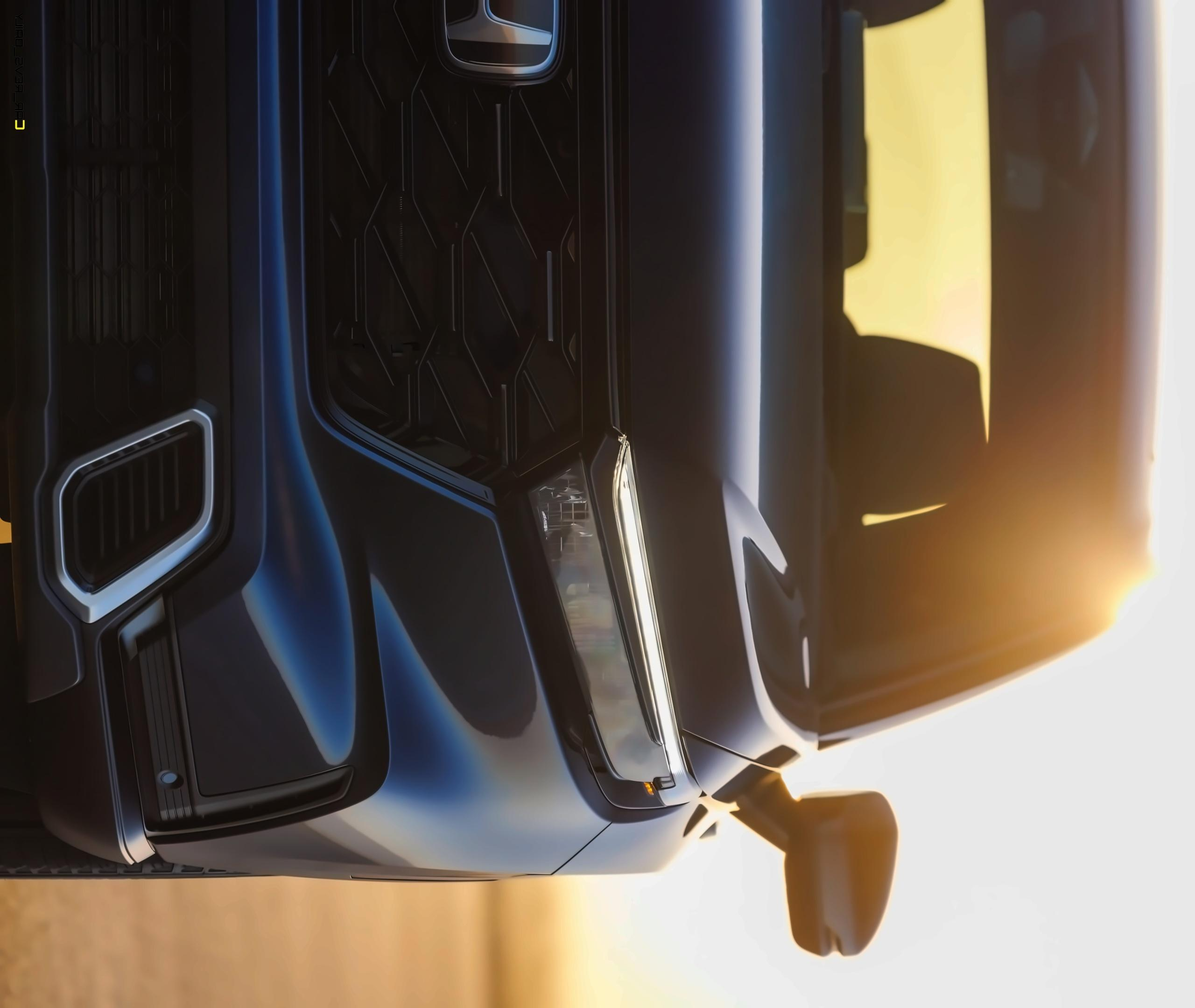Car hood: (599, 0, 862, 798)
Front bumper: (0, 0, 617, 897)
Headlight - -L-: (506, 431, 705, 818)
Side mirror - -L-: (739, 749, 914, 962)
